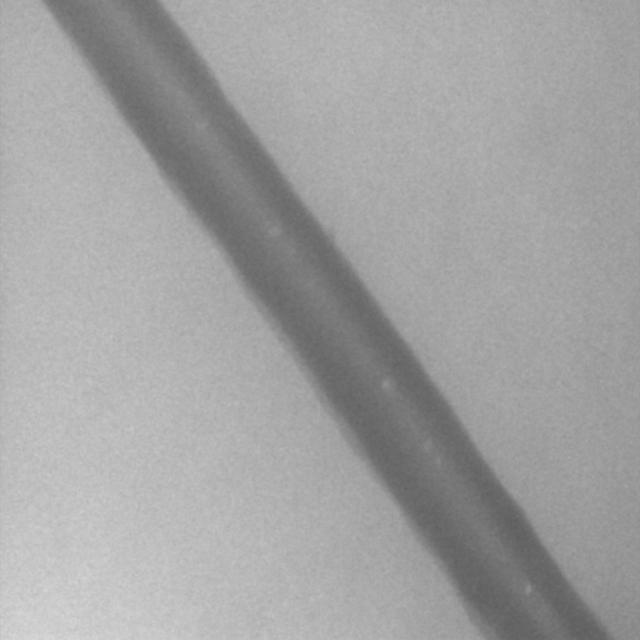air hole: (380, 376, 390, 392), (523, 581, 534, 595)
